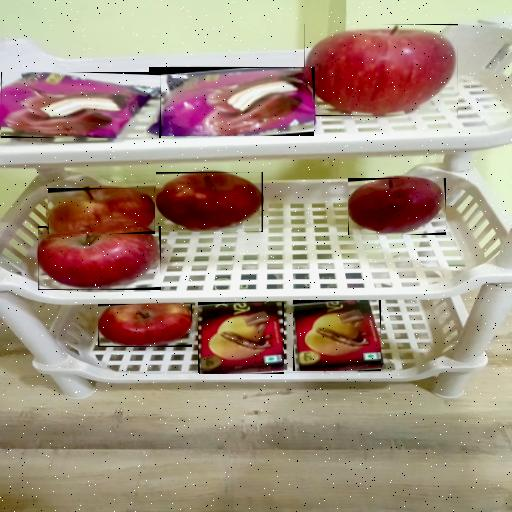Apple: (304, 24, 458, 116), (38, 226, 161, 290), (156, 172, 263, 232), (348, 178, 446, 235), (46, 188, 154, 234), (98, 304, 192, 347)
Choco Fills: (293, 300, 381, 371), (198, 302, 284, 374)
Choco Pie: (149, 67, 314, 136), (1, 72, 161, 138)
